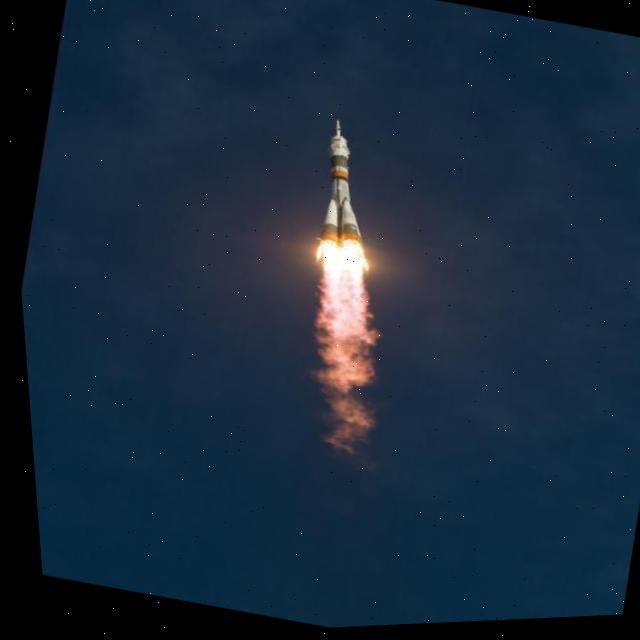missile: (293, 116, 387, 272)
